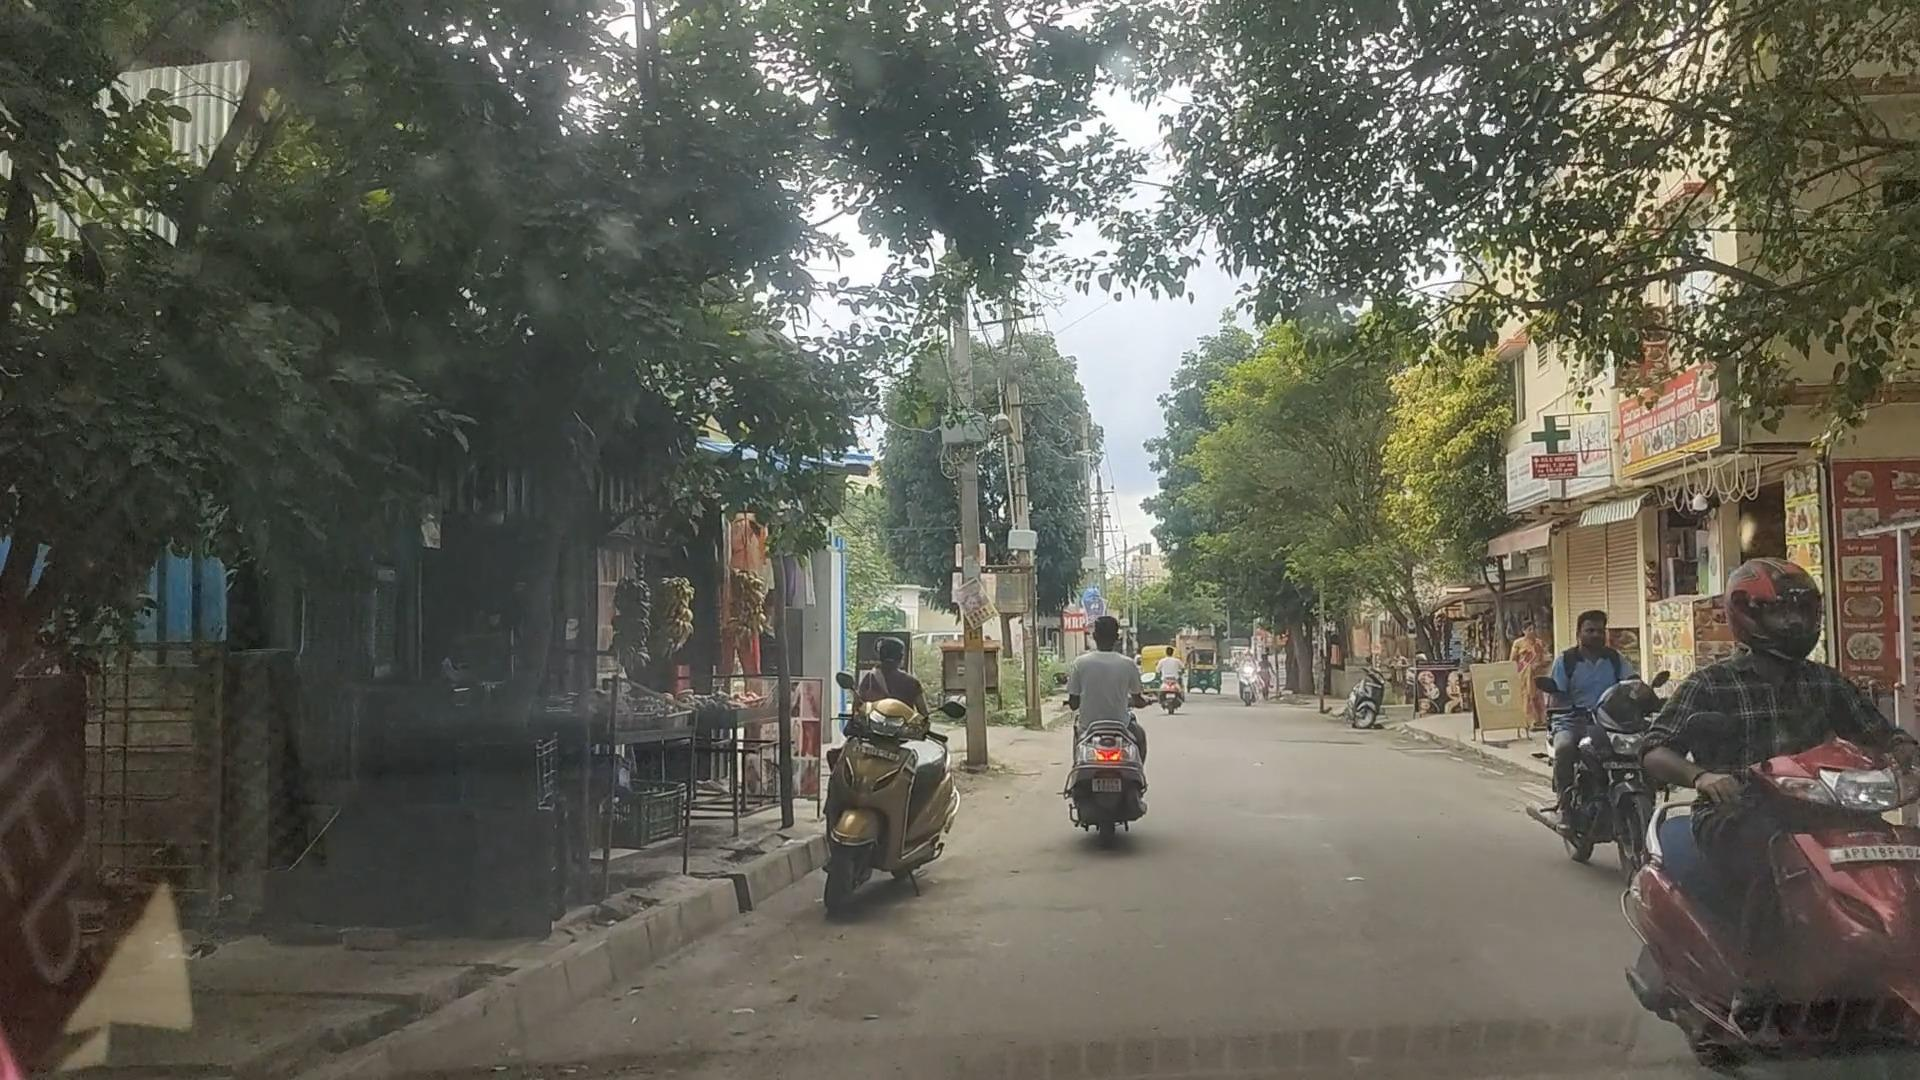LMV: (1610, 566, 1920, 1080), (806, 641, 967, 902), (1528, 591, 1659, 882), (1048, 597, 1167, 878)
